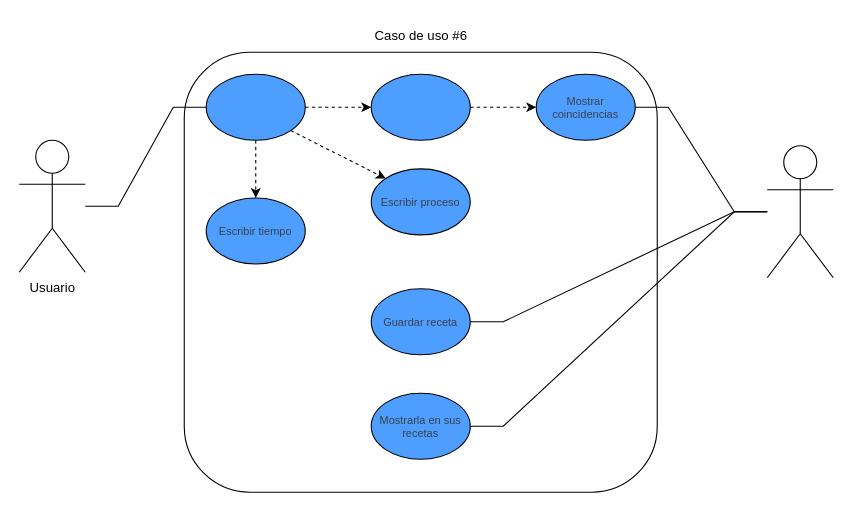
Image size: 853x512. Some labels were removed from this diagram. The box of each missing label's shape, as (x1, y1, x2, y2) in pixels:
Escribir ingredientes: (370, 73, 470, 140)
Ingresar receta: (205, 73, 305, 140)
Sistema: (766, 145, 833, 278)
